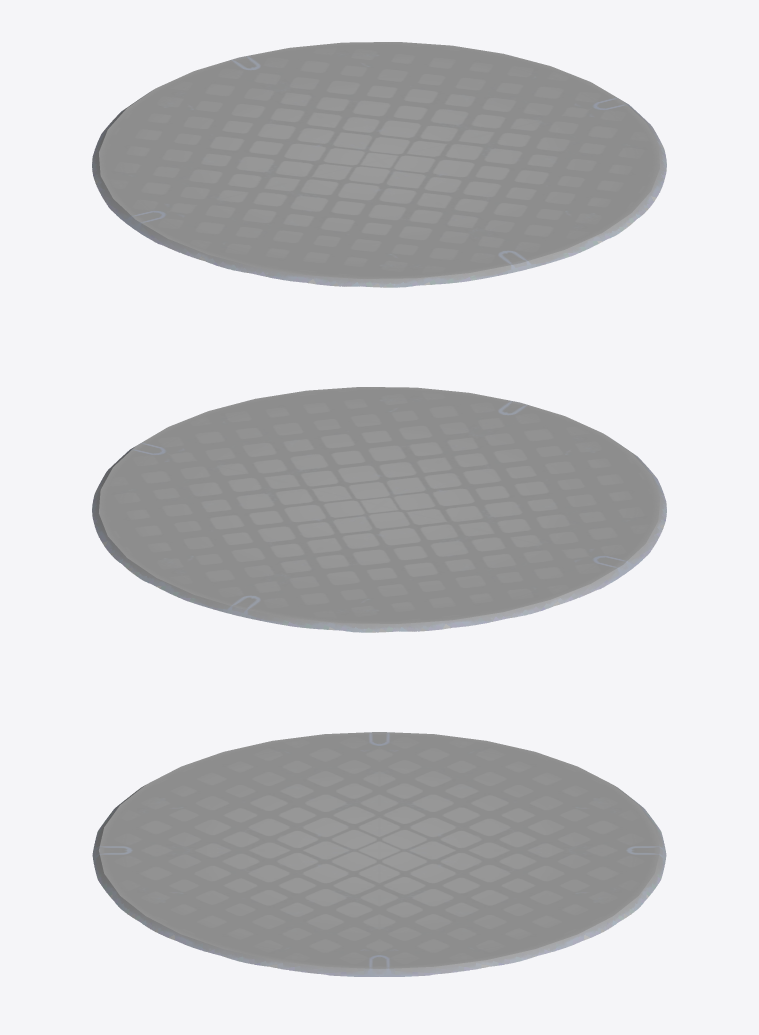
File: pref_fx_NeutralScoreArea03_winter_orange_floor_lv3.fbx
The picture shows the model from 3 angles, top to bottom: view 1: azimuth 30°, elevation 25°; view 2: azimuth 150°, elevation 25°; view 3: azimuth 270°, elevation 25°; orthographic projection.
Parts seen in each view (by area): view 1: sm_prop_platform06a_lv3; view 2: sm_prop_platform06a_lv3; view 3: sm_prop_platform06a_lv3.
Boxes of the visible parts, box(x1,y1,x2,y2) form: sm_prop_platform06a_lv3: box(92, 42, 666, 287); sm_prop_platform06a_lv3: box(92, 387, 666, 632); sm_prop_platform06a_lv3: box(92, 732, 666, 976).
Bounding box in the file's own units: 7.46 × 0.2009 × 7.46.
